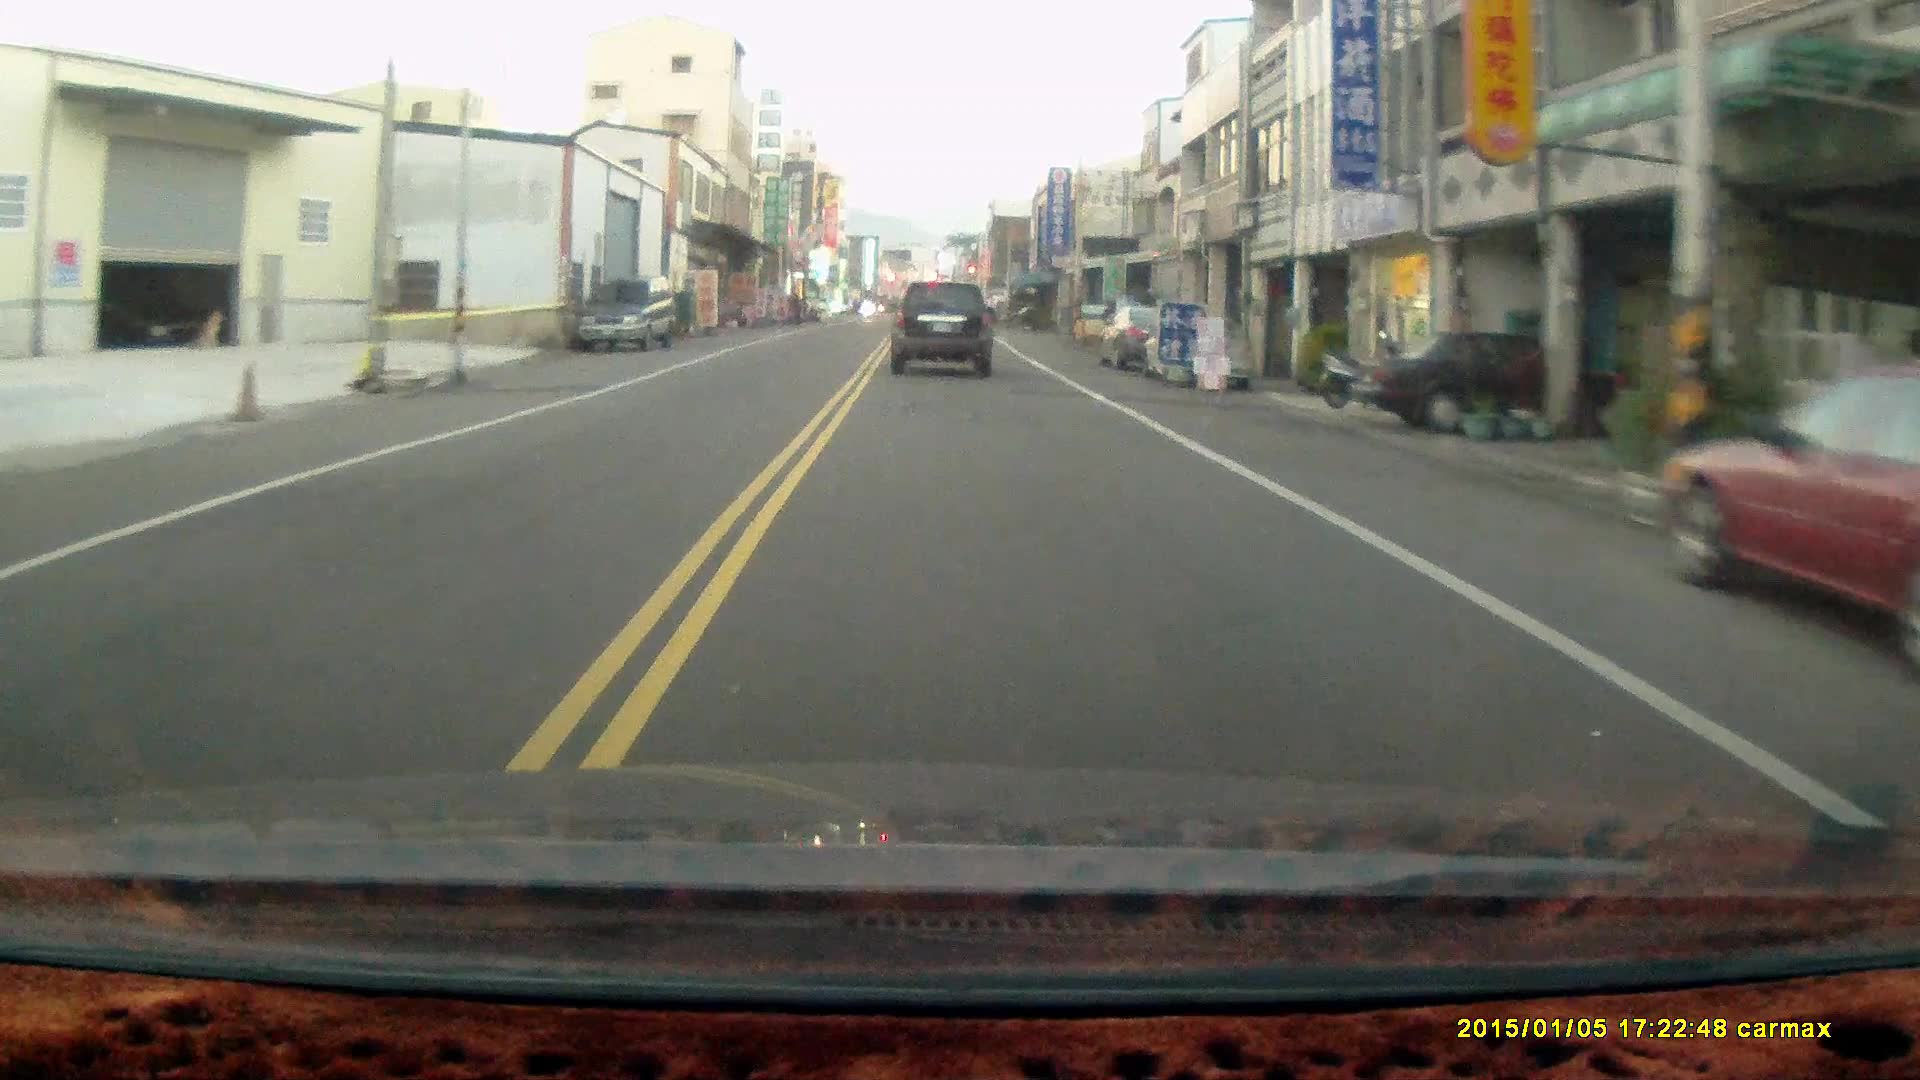vehicle: (1654, 355, 1920, 649), (1354, 328, 1665, 433), (890, 280, 996, 378), (579, 274, 682, 355)
